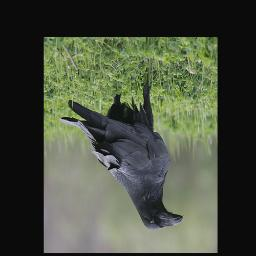Crow: (59, 72, 183, 230)
